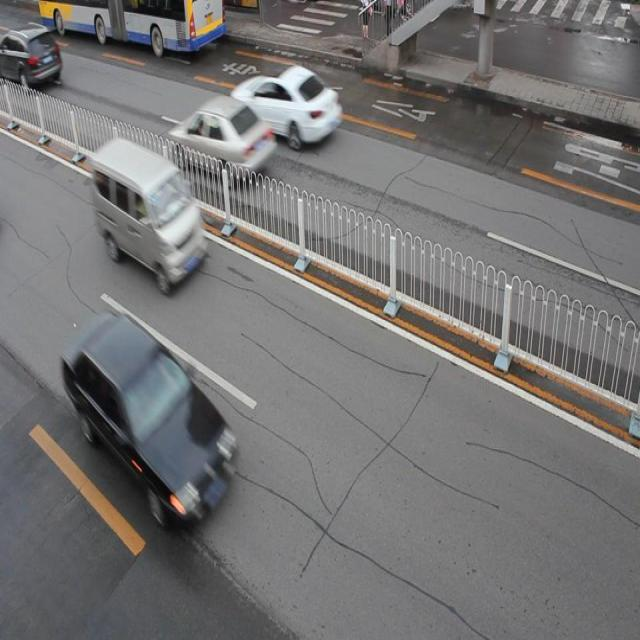car: (63, 312, 233, 519), (171, 95, 276, 192), (232, 60, 341, 150), (1, 22, 61, 92)
truck: (89, 136, 206, 286)
van: (40, 1, 225, 51)
